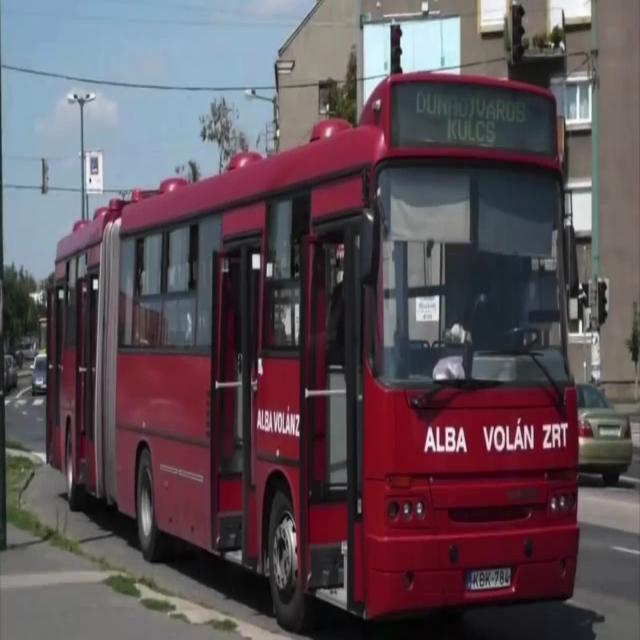bus: (44, 69, 586, 640)
